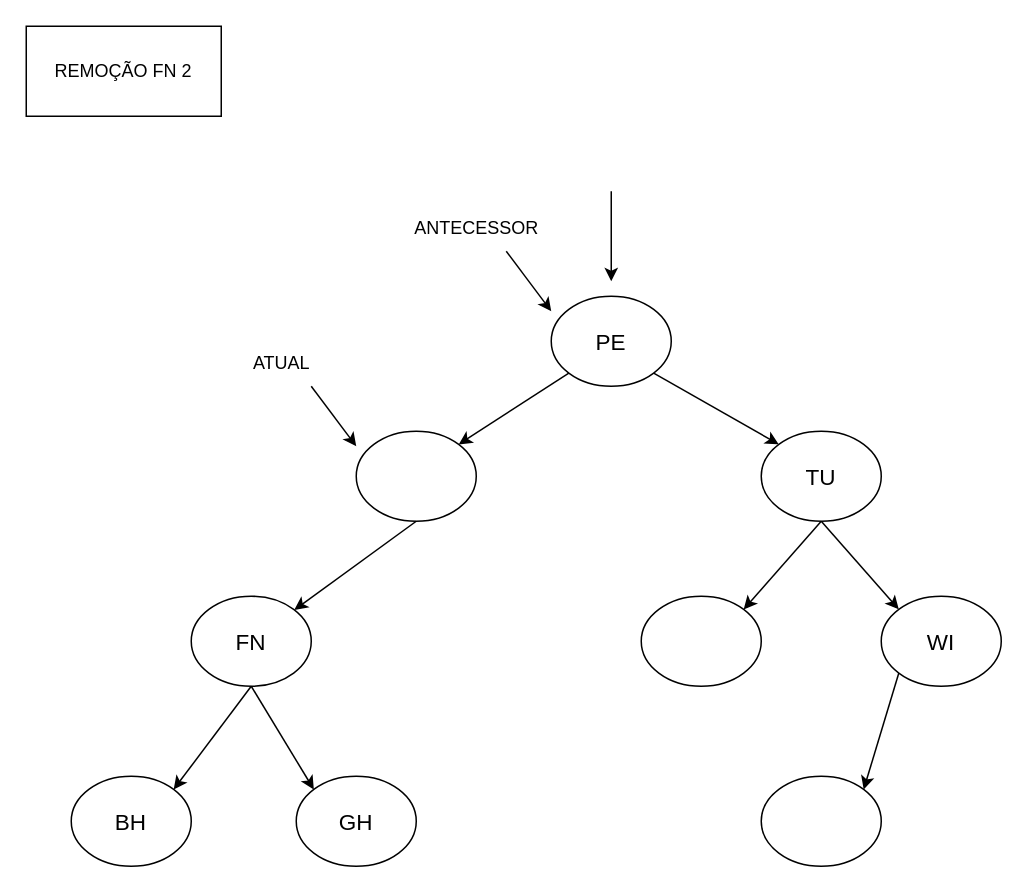
Some shapes in this 1028 by 893 pixel diagram are drawn without their labels. Here are the shapes that lost their labels. From the top down, the centre of each, then its label:
(x=415, y=475): NS
(x=700, y=640): PQ
(x=820, y=820): UF
